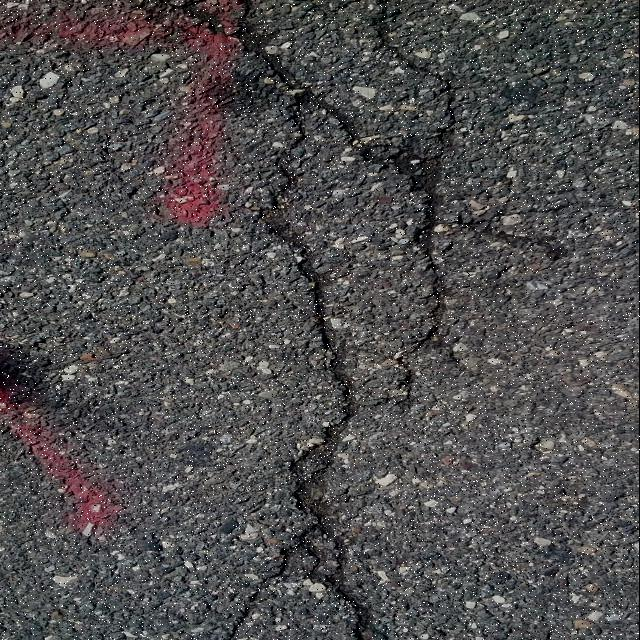Crack: (165, 0, 640, 640), (227, 538, 301, 640)
